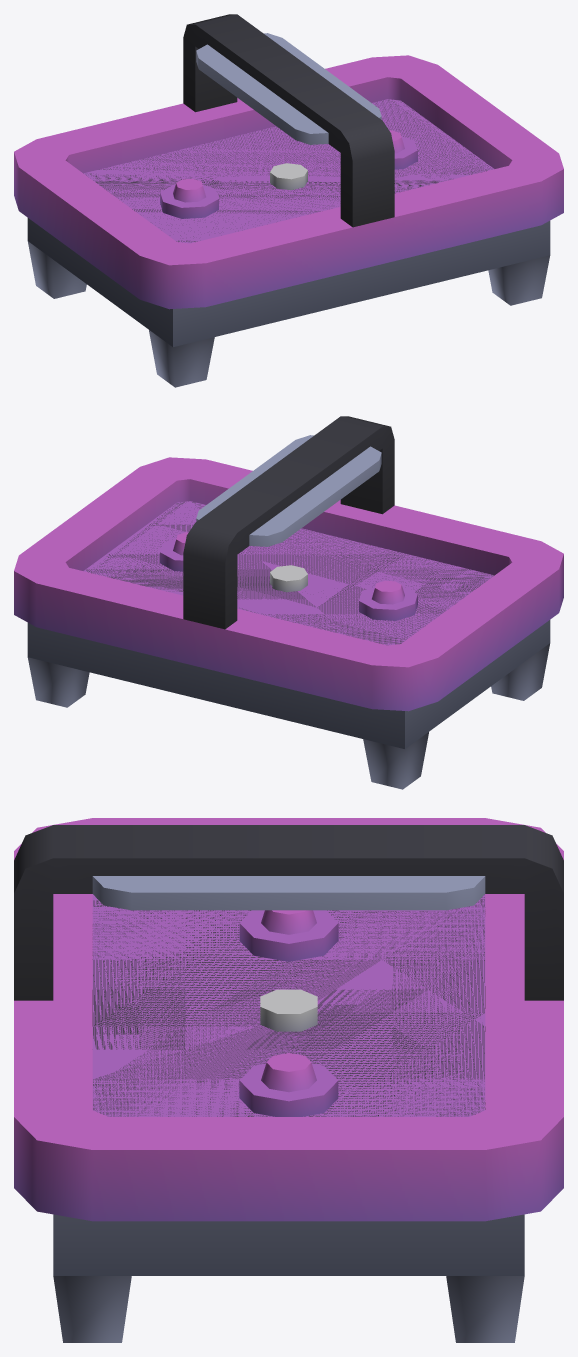
File: air_hockey.fbx
3 views of the same model, one above another, from view 1: azimuth 30°, elevation 25°; view 2: azimuth 150°, elevation 25°; view 3: azimuth 270°, elevation 25° (orthographic). The views are drawn at different scales.
Parts seen in each view (by area): view 1: air-hockey; view 2: air-hockey; view 3: air-hockey.
Boxes of the visible parts, x1,y1,x2,y2 form: air-hockey: [14, 14, 563, 387]; air-hockey: [14, 416, 563, 789]; air-hockey: [14, 818, 563, 1342].
Bounding box in the file's own units: 1 × 0.5 × 0.7.
